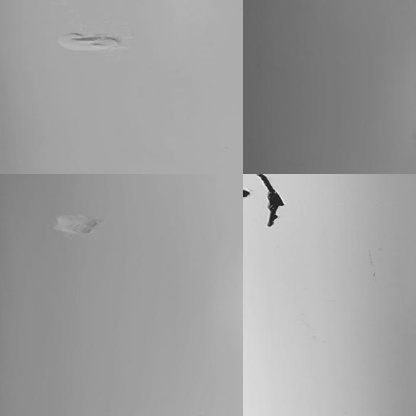kongdong: (255, 167, 284, 233), (240, 185, 249, 201)
sunshang: (53, 28, 123, 54), (52, 209, 106, 240)
